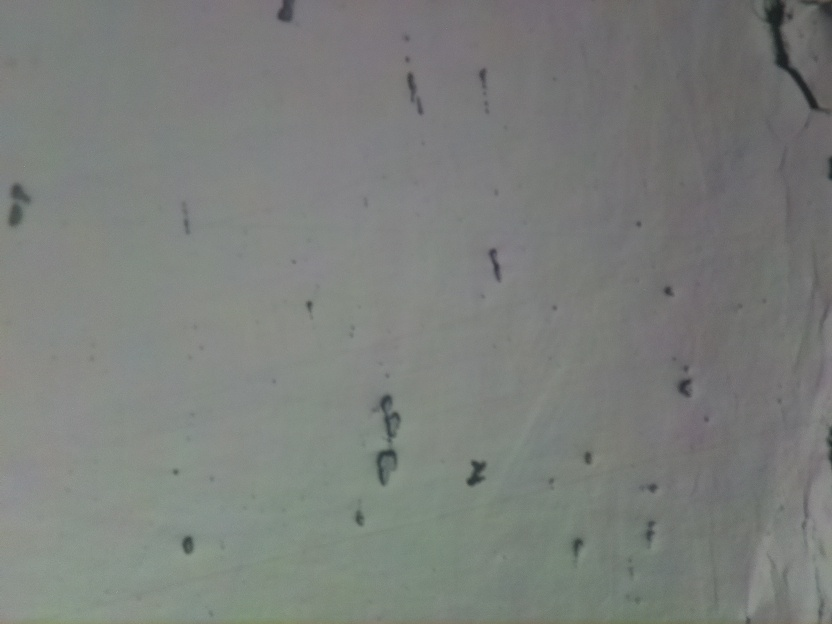crack: (768, 0, 825, 115)
